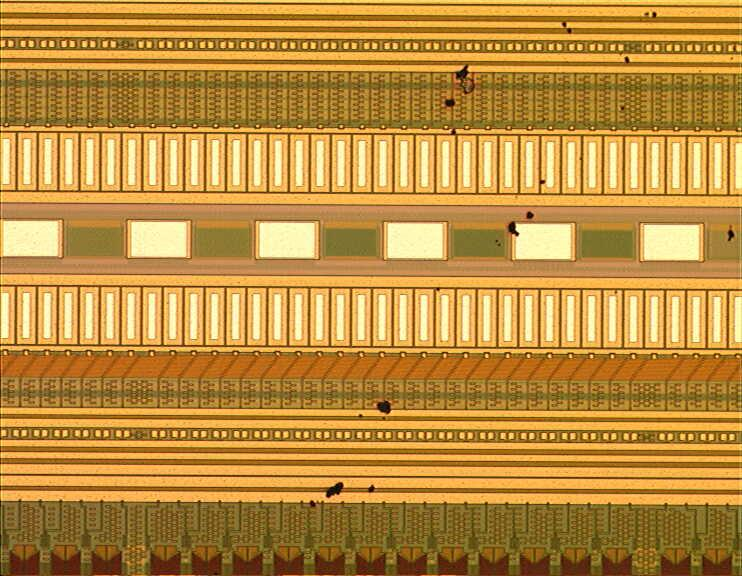PO CONTAMINATION: (299, 6, 742, 512)
